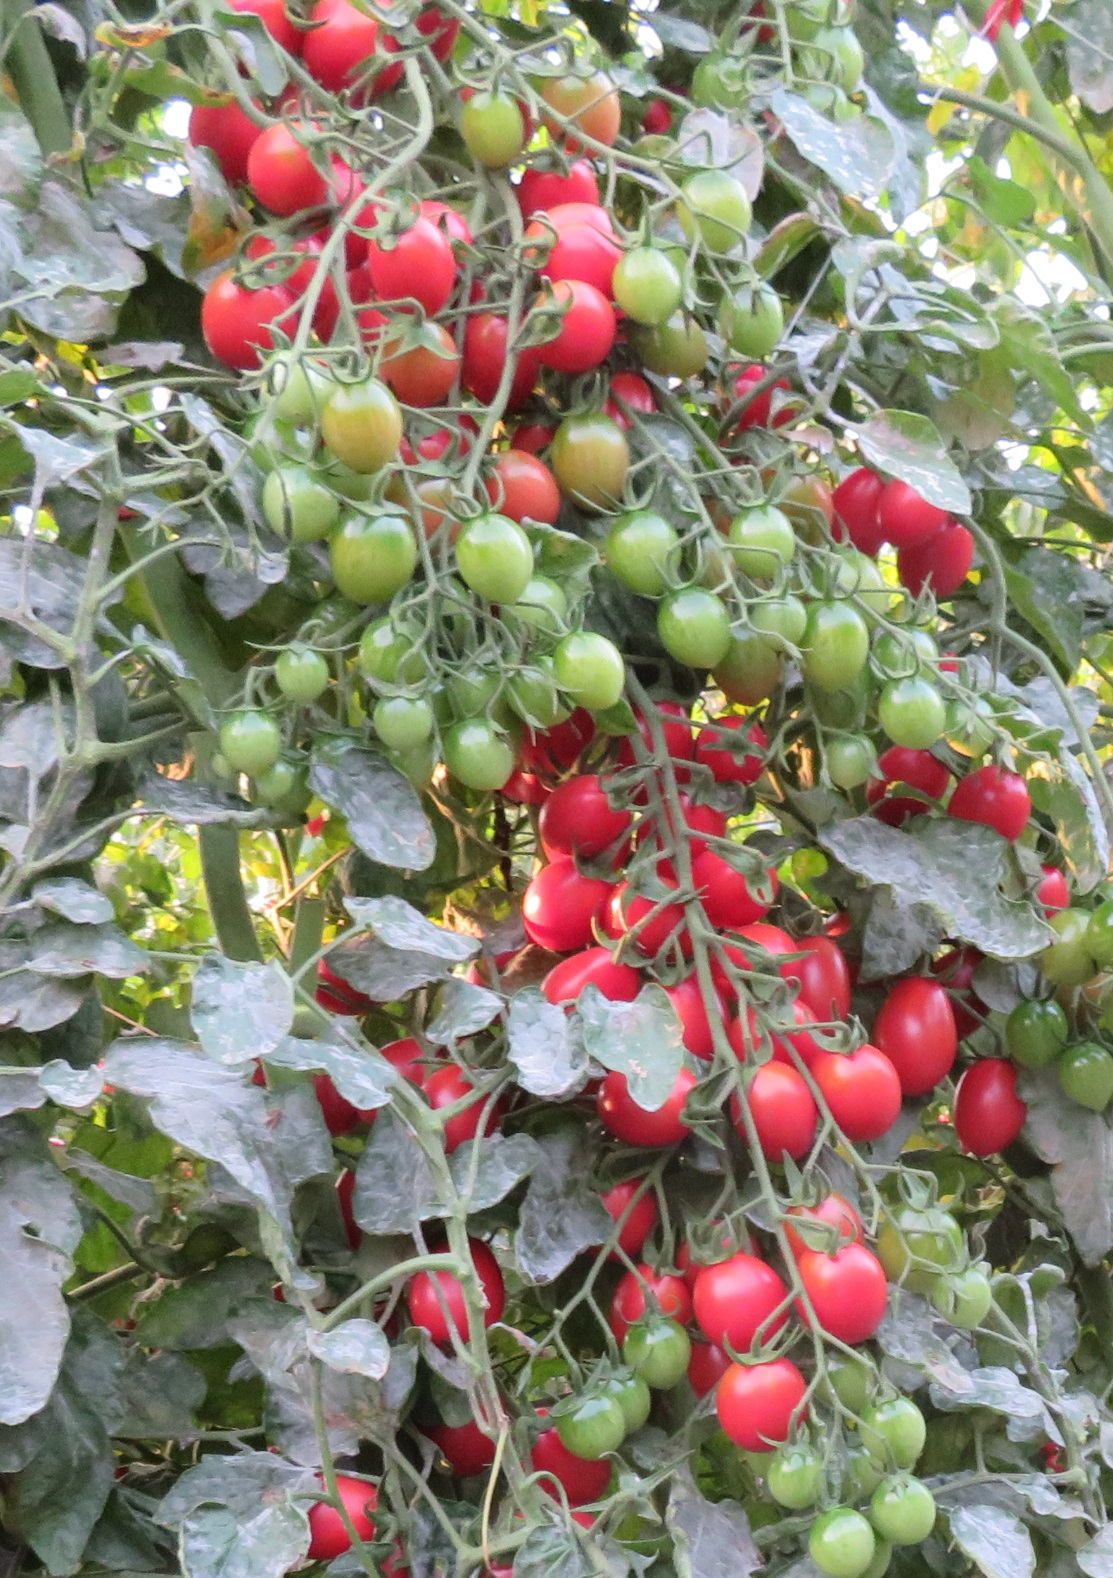green: (330, 505, 414, 610), (455, 516, 537, 606), (324, 382, 404, 472), (600, 513, 681, 597), (662, 591, 744, 672), (455, 82, 528, 172), (258, 470, 338, 549), (676, 169, 753, 252), (556, 630, 629, 716), (811, 593, 871, 695), (870, 1465, 937, 1549), (859, 1392, 932, 1470), (560, 423, 625, 508), (444, 718, 514, 793), (729, 506, 799, 579), (609, 246, 683, 316), (876, 685, 947, 756), (806, 1508, 879, 1577), (549, 1391, 624, 1458), (625, 1315, 691, 1390), (925, 1268, 1002, 1331), (214, 707, 285, 775), (358, 622, 429, 688), (888, 1218, 978, 1268), (689, 49, 750, 111), (762, 1452, 825, 1511), (369, 697, 438, 749), (738, 279, 789, 351), (273, 647, 332, 706), (824, 729, 874, 791), (507, 665, 555, 728), (742, 595, 803, 642), (1012, 1015, 1060, 1074), (1040, 897, 1070, 990), (1056, 1066, 1113, 1109), (618, 1380, 655, 1433)
red: (246, 119, 363, 223), (803, 1041, 903, 1144), (406, 1246, 503, 1347), (365, 213, 461, 316), (196, 263, 288, 367), (794, 1246, 891, 1342), (696, 1252, 789, 1349), (597, 1062, 702, 1147), (524, 860, 609, 956), (540, 773, 635, 859), (519, 285, 617, 369), (713, 1356, 806, 1442), (420, 1060, 501, 1158), (494, 146, 614, 211), (734, 1065, 815, 1160), (683, 841, 779, 922), (183, 87, 261, 186), (879, 979, 953, 1082), (379, 328, 470, 410), (302, 13, 388, 95), (536, 949, 648, 1009), (953, 1056, 1019, 1156), (299, 1477, 383, 1554), (611, 875, 691, 950), (512, 218, 611, 277), (588, 1177, 658, 1260), (781, 1188, 865, 1252), (697, 716, 771, 787), (484, 459, 560, 524), (799, 942, 855, 1029), (946, 770, 1027, 828), (901, 529, 966, 597), (871, 482, 942, 541), (732, 926, 797, 987), (835, 473, 873, 564), (1029, 869, 1078, 909)
